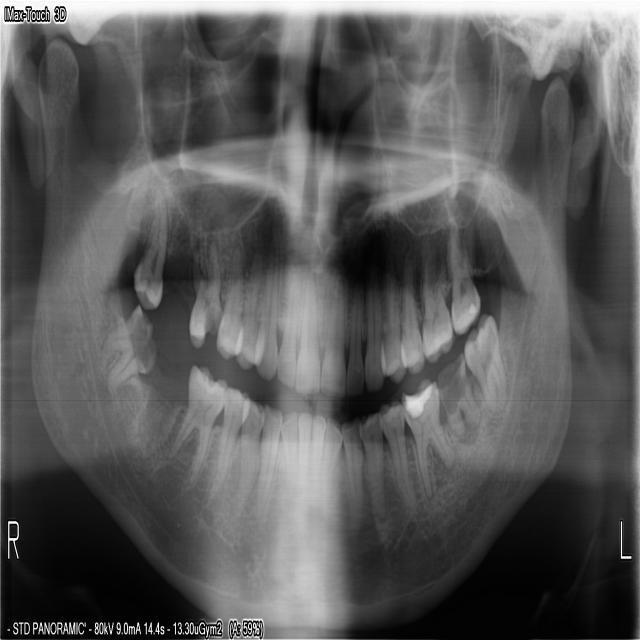LCD: (337, 411, 363, 512)
LCU: (362, 281, 387, 393)
LID: (318, 412, 343, 506), (308, 407, 326, 492)
LIU: (318, 268, 346, 405), (341, 276, 365, 398)
LMD: (398, 368, 455, 501), (461, 304, 509, 414), (432, 345, 482, 446)
LMU: (444, 220, 482, 341), (419, 248, 454, 368)
LPMD: (378, 395, 419, 517), (356, 404, 386, 523)
LPMU: (378, 265, 408, 386), (398, 253, 423, 375)
RCD: (252, 395, 282, 534)
RCU: (250, 230, 281, 382)
RID: (277, 399, 297, 498), (294, 402, 313, 498)
RIU: (293, 260, 319, 400), (273, 265, 299, 396)
RMD: (163, 354, 228, 495), (94, 299, 158, 394)
RMU: (130, 181, 170, 314), (186, 229, 225, 351)
RPMD: (195, 379, 252, 520), (228, 391, 266, 523)
RPMU: (212, 234, 245, 364), (233, 243, 265, 373)
